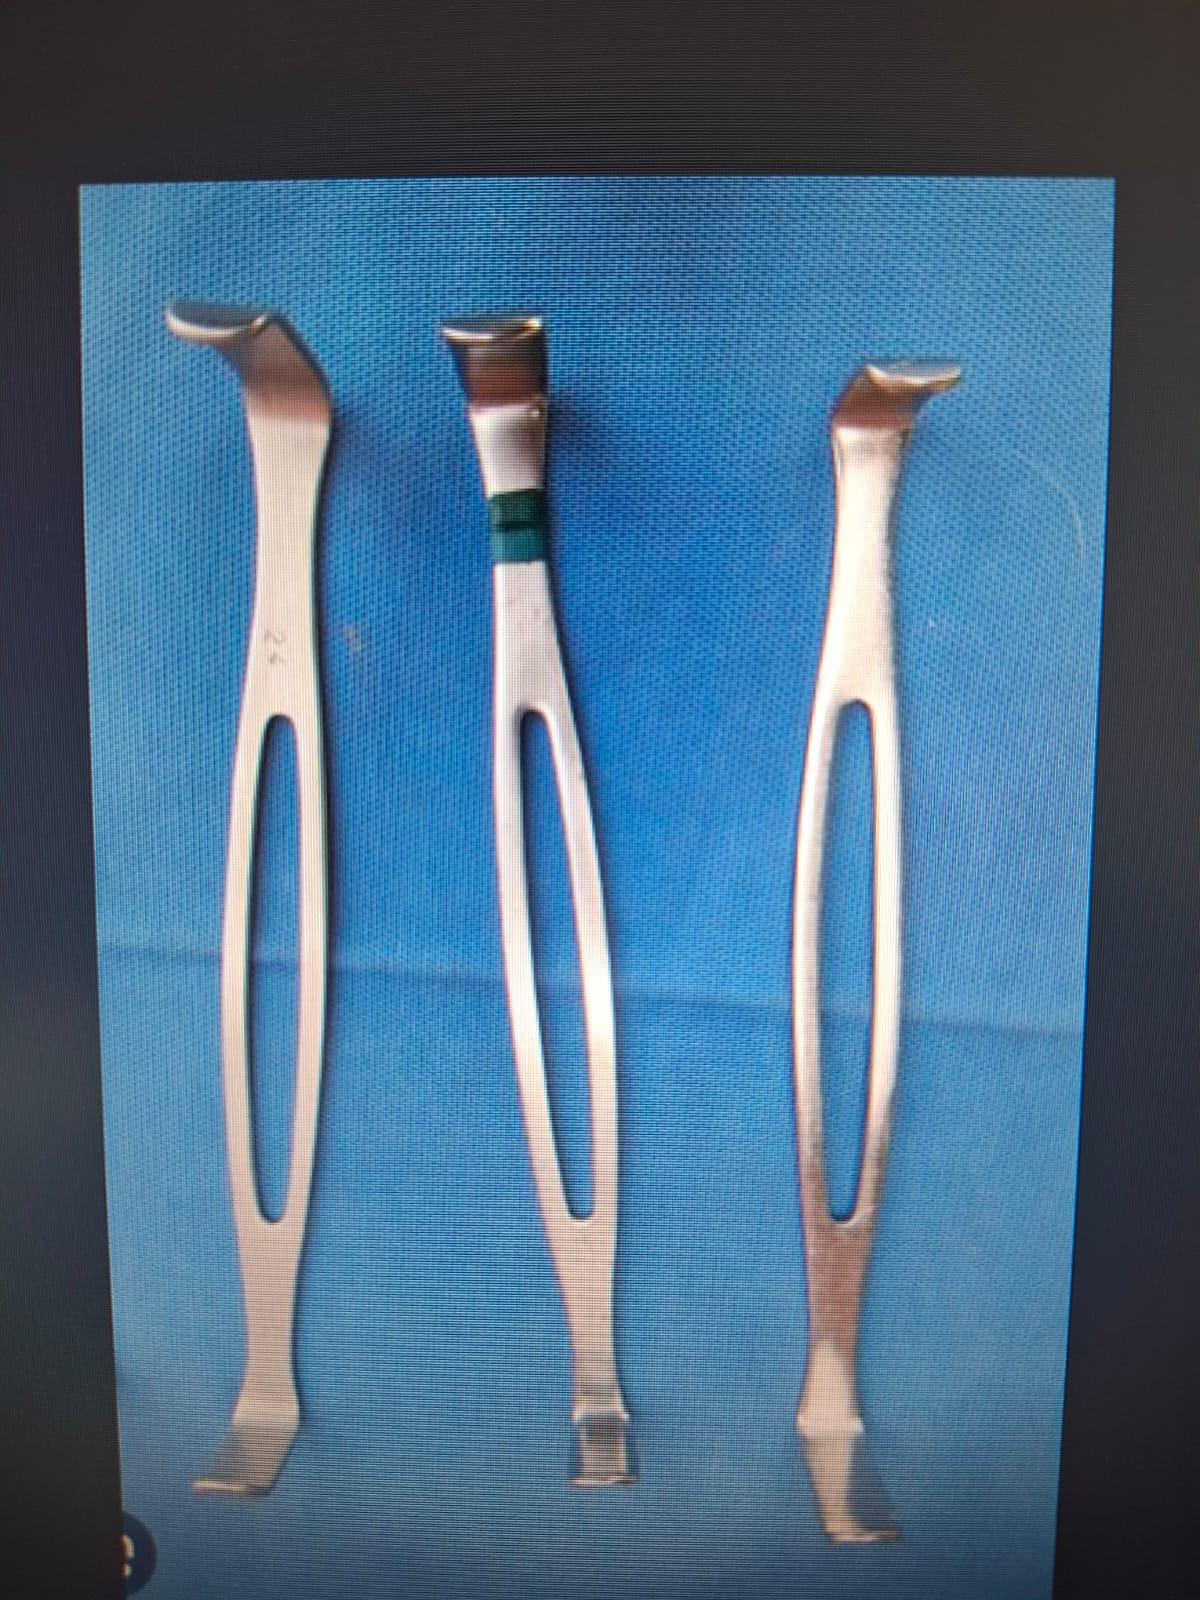Army Navy Retractor: (140, 275, 395, 1516), (763, 345, 979, 1555)
